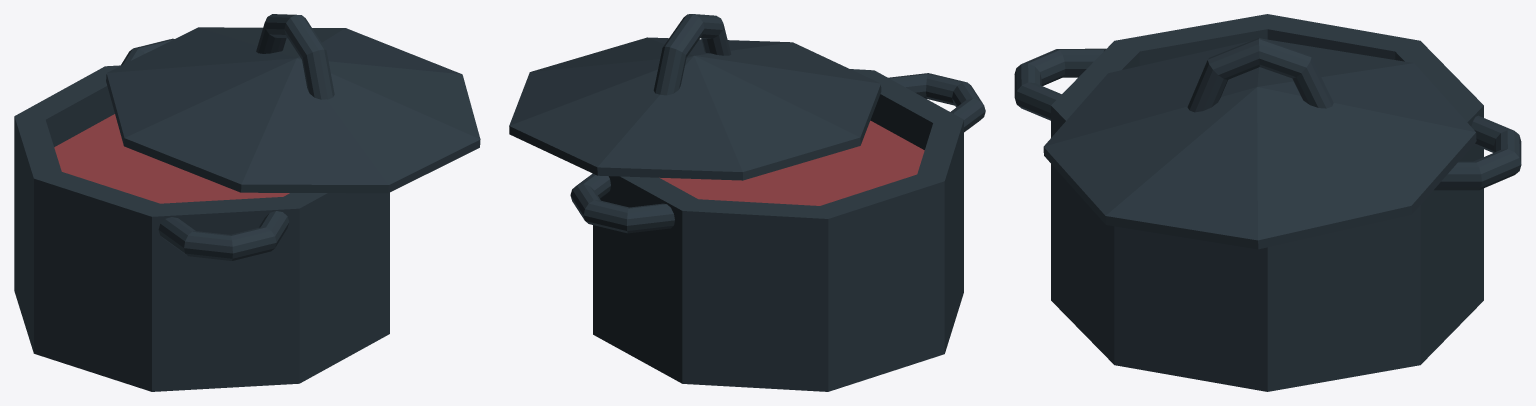
Rendered from pot.fbx.
3 renders of one model, left to right at view 1: azimuth 30°, elevation 25°; view 2: azimuth 150°, elevation 25°; view 3: azimuth 270°, elevation 25°, orthographic. The views are drawn at different scales.
Parts seen in each view (by area): view 1: Cylinder, Cone, Cylinder.001, Torus, Torus.002; view 2: Cylinder, Cone, Cylinder.001, Torus.001, Torus.002, Torus; view 3: Cylinder, Cone, Torus.002, Torus.001, Torus.
Part boxes in pixels (x1,y1,x2,y2): Cylinder: [14, 65, 389, 391]; Cone: [106, 27, 480, 193]; Cylinder.001: [54, 114, 289, 203]; Torus: [158, 211, 289, 260]; Torus.002: [256, 14, 334, 99]; Cylinder: [593, 69, 963, 391]; Cone: [509, 37, 881, 180]; Cylinder.001: [659, 120, 924, 205]; Torus.001: [570, 173, 674, 233]; Torus.002: [653, 14, 731, 95]; Torus: [888, 73, 985, 132]; Cylinder: [1051, 14, 1483, 391]; Cone: [1043, 38, 1476, 249]; Torus.002: [1187, 38, 1333, 112]; Torus.001: [1434, 115, 1521, 190]; Torus: [1014, 48, 1106, 120].
Bounding box in the file's own units: 215 × 135 × 200.
